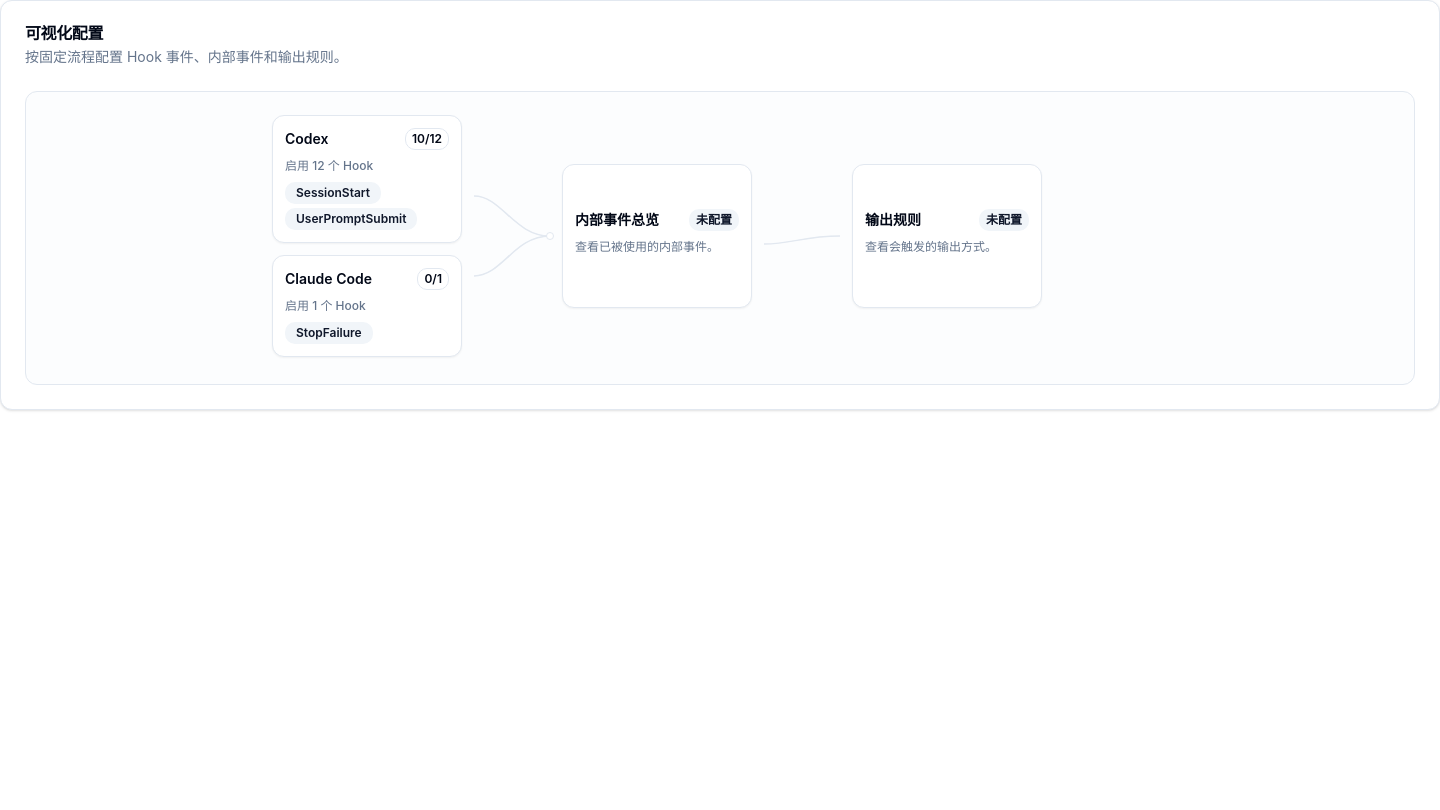
LinkWorkflowCanvas › shows helpful empty states in internal and output inspectors
Click the button "内部事件总览 未配置 查看已被使用的内部事件。" at (657, 236), box [562,164,752,308]
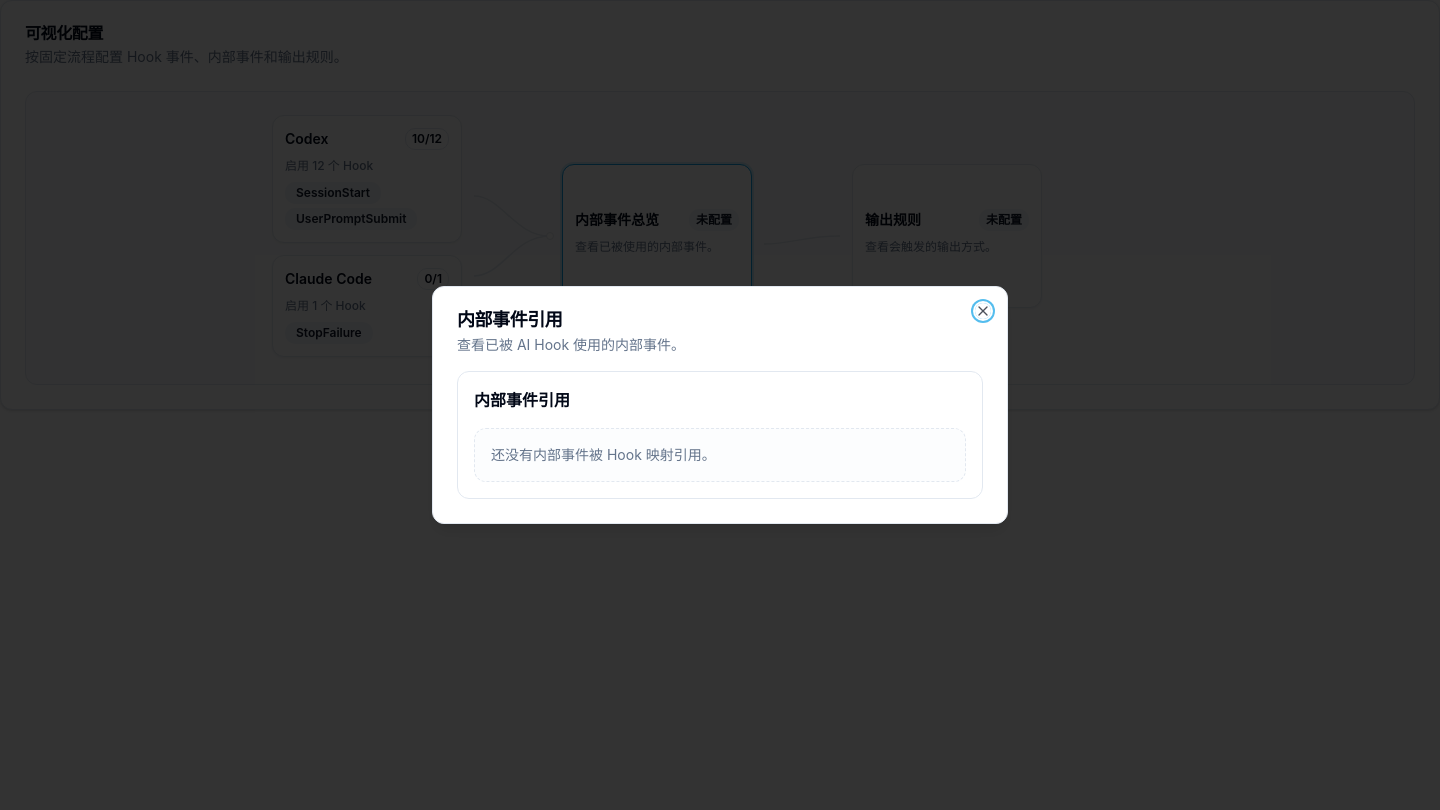
Result: the text "还没有内部事件被 Hook 映射引用。" is shown at [474,428,966,482]
Click the button named "Close" at (983, 311), box [975,303,991,319]
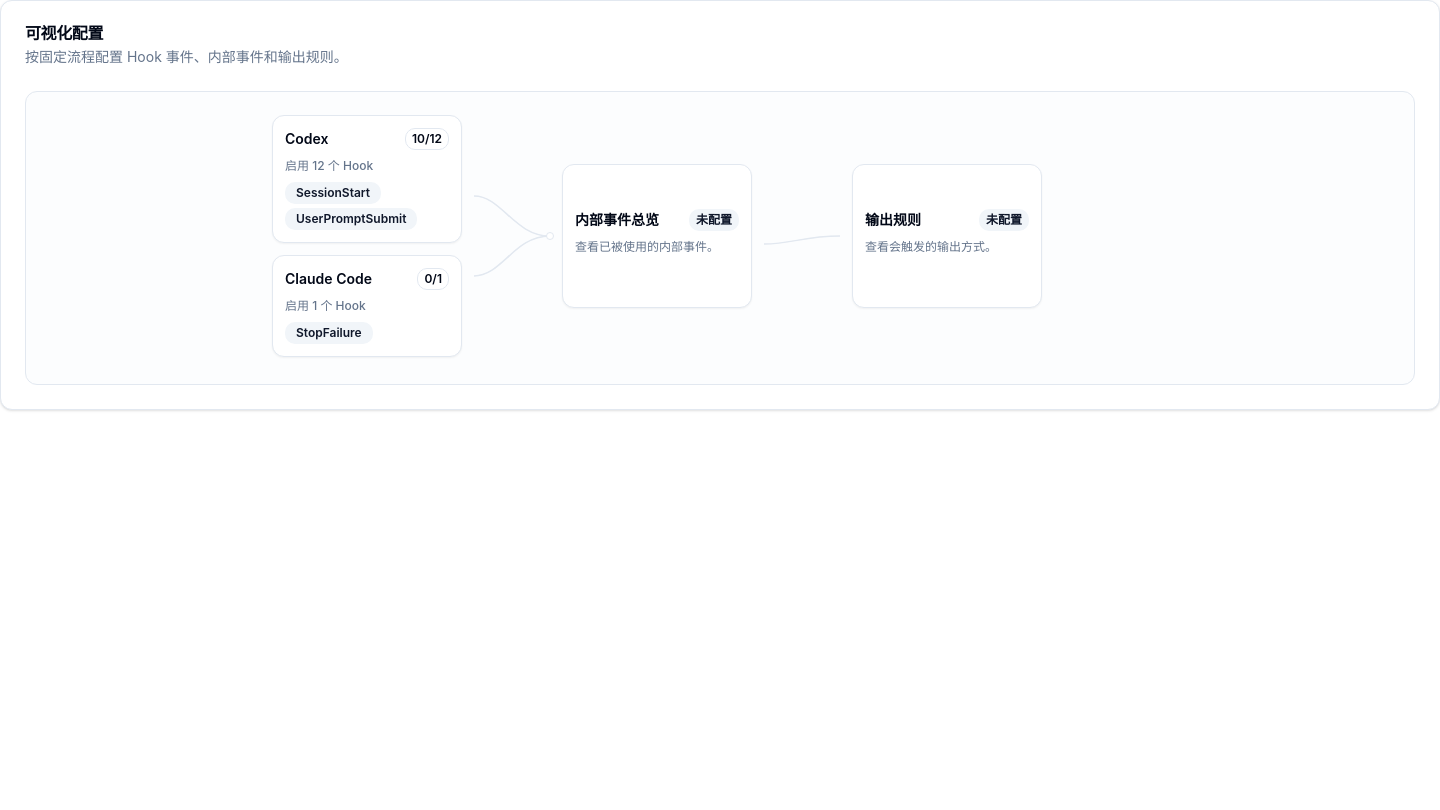
Click the button "输出规则 未配置 查看会触发的输出方式。" at (947, 236), box [852,164,1042,308]
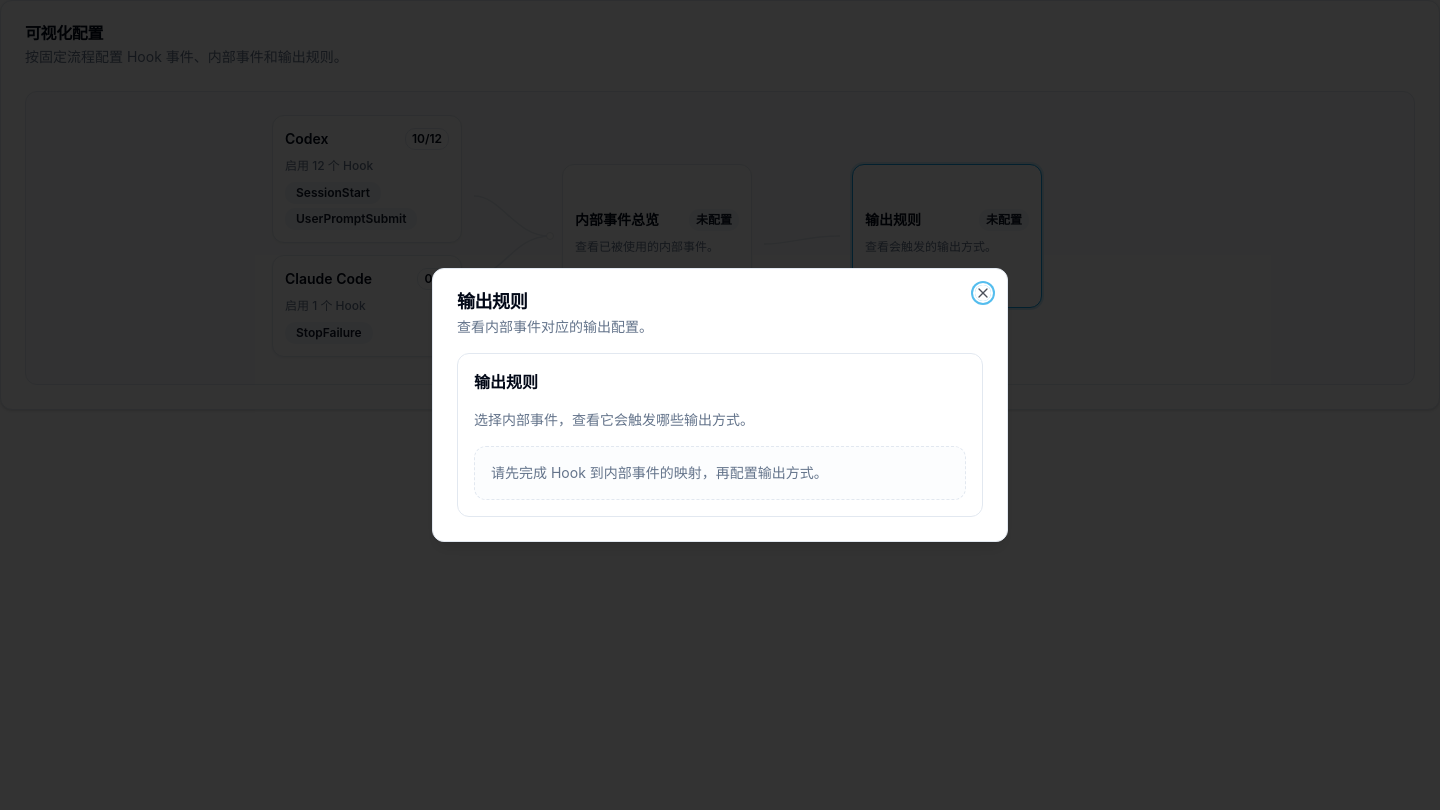
Result: the text "请先完成 Hook 到内部事件的映射，再配置输出方式。" is shown at [474,446,966,500]
